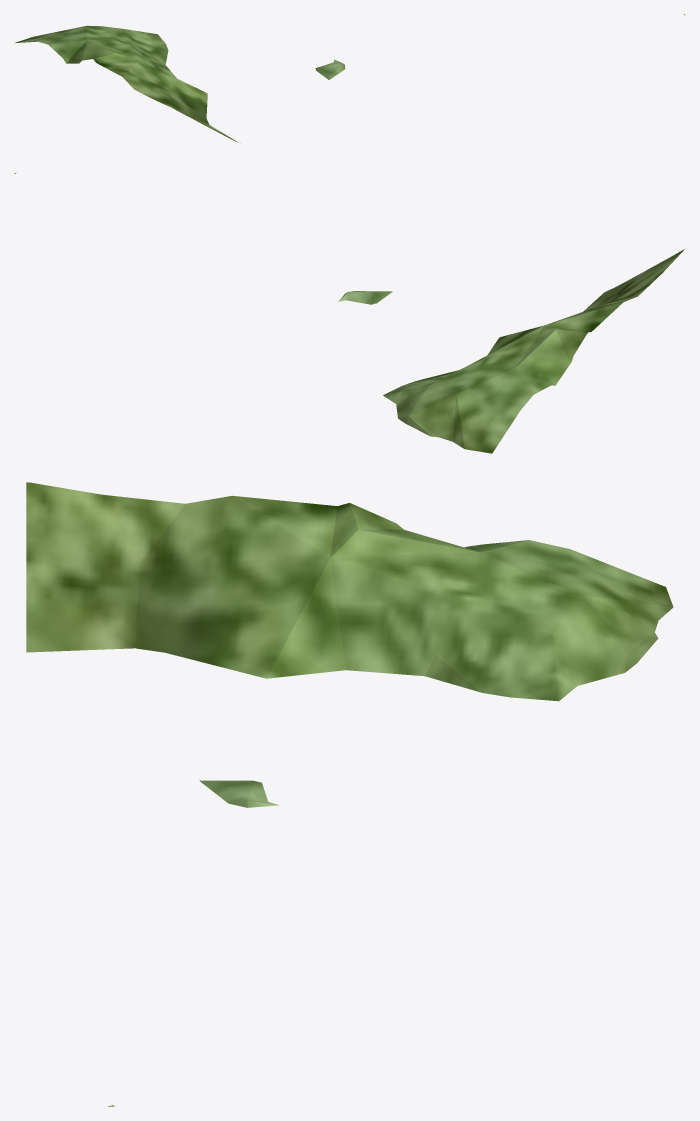
3 views of the same model, one above another, from view 1: azimuth 30°, elevation 25°; view 2: azimuth 150°, elevation 25°; view 3: azimuth 270°, elevation 25° (orthographic). The views are drawn at different scales.
Size of the model in its own units: 1.86 by 0.1753 by 0.9808.
1 material, 1 textured.
